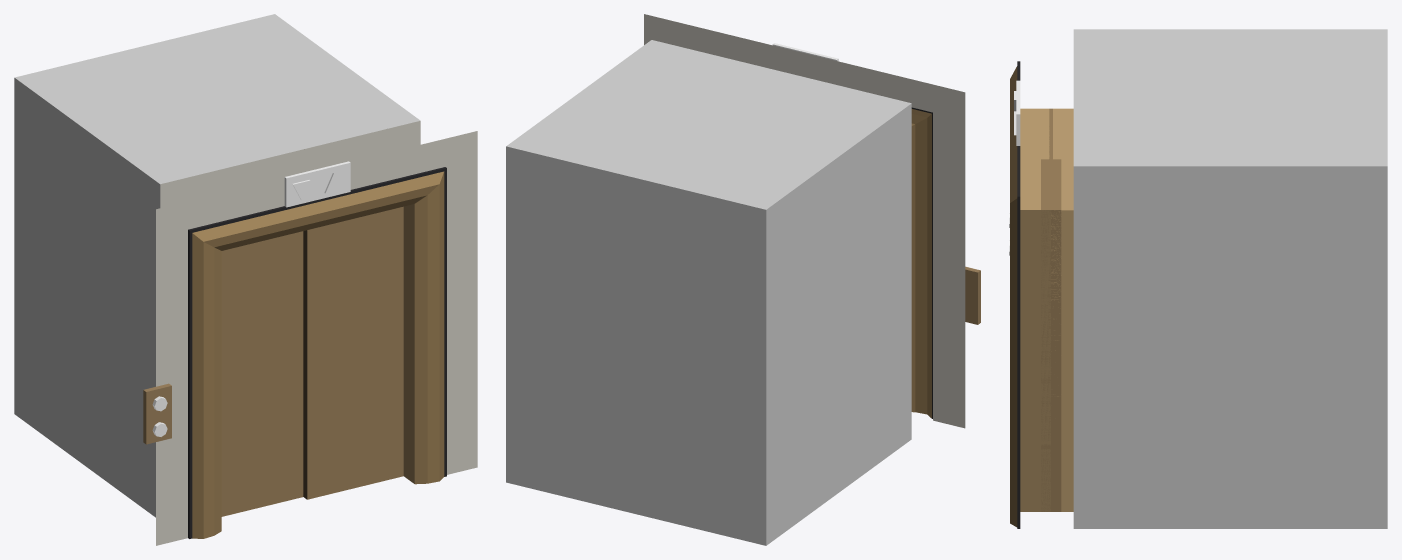
File: Elevator-Hotel_01.fbx
3 views of the same model, side by side, from view 1: azimuth 30°, elevation 25°; view 2: azimuth 150°, elevation 25°; view 3: azimuth 270°, elevation 25° (orthographic). The views are drawn at different scales.
Visible parts, largest first — view 1: Interior_Walls, Elevator_Hotel, Elevator_Door_R, Elevator_Door_L, Interior_DoorFrame, Light_Panel, Elevator_Buttons_Exterior; view 2: Interior_Walls, Elevator_Hotel, Elevator_Buttons_Exterior; view 3: Interior_Walls, Elevator_Hotel, Elevator_Door_R, Interior_DoorFrame.
Part boxes in pixels (x1,y1,x2,y2): Interior_Walls: (14,14,420,517); Elevator_Hotel: (156,131,477,545); Elevator_Door_R: (303,206,403,499); Elevator_Door_L: (221,231,303,516); Interior_DoorFrame: (160,121,420,207); Light_Panel: (284,161,350,207); Elevator_Buttons_Exterior: (143,383,171,444); Interior_Walls: (506,40,911,545); Elevator_Hotel: (644,14,965,428); Elevator_Buttons_Exterior: (965,266,980,324); Interior_Walls: (1073,29,1387,528); Elevator_Hotel: (1010,61,1050,528); Elevator_Door_R: (1041,159,1061,511); Interior_DoorFrame: (1051,108,1073,511).
Size of the model in its own units: 3.12 by 3.01 by 2.84.
